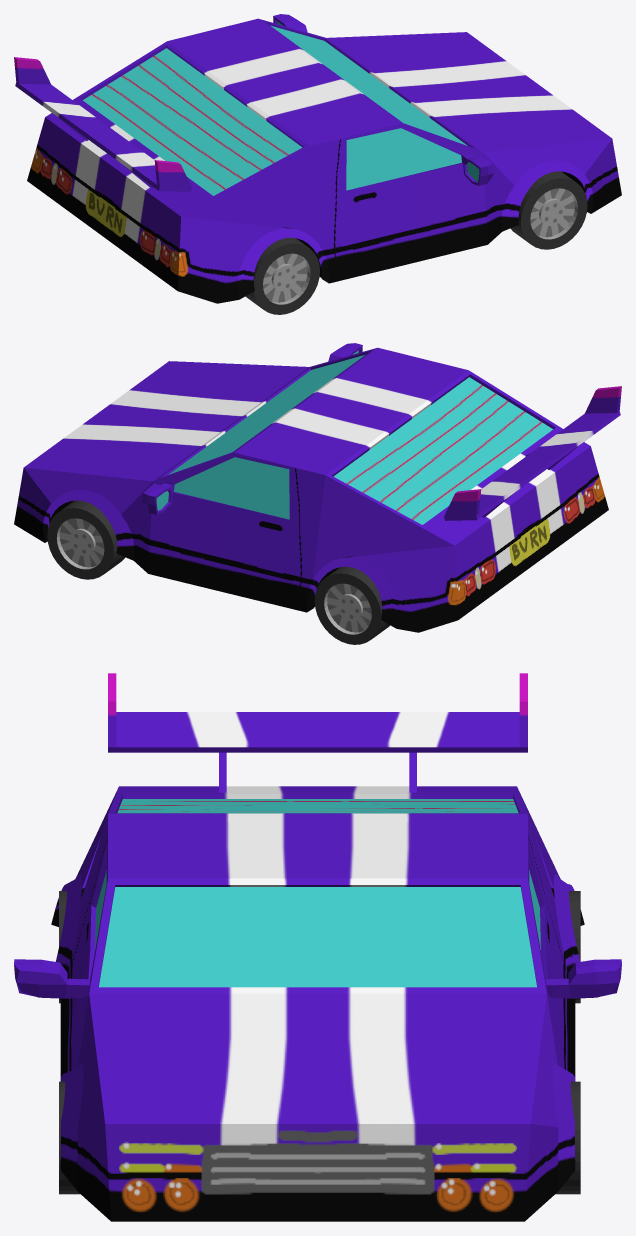
3 renders of one model, top to bottom at view 1: azimuth 30°, elevation 25°; view 2: azimuth 150°, elevation 25°; view 3: azimuth 270°, elevation 25°, orthographic. The views are drawn at different scales.
Visible parts, largest first — view 1: Car, Spoiler, WheelFrontRight, WheelBackRight, MirrorRight; view 2: Car, Spoiler, WheelFrontLeft, WheelBackLeft, MirrorLeft; view 3: Car, Spoiler, MirrorLeft, MirrorRight, WheelFrontLeft.
Part boxes in pixels (x1=…): Car: x1=27, y1=18, x2=621, y2=303; Spoiler: x1=14, y1=57, x2=191, y2=191; WheelFrontRight: x1=510, y1=171, x2=587, y2=249; WheelBackRight: x1=245, y1=237, x2=319, y2=314; MirrorRight: x1=461, y1=154, x2=493, y2=185; Car: x1=14, y1=347, x2=608, y2=632; Spoiler: x1=444, y1=386, x2=621, y2=520; WheelFrontLeft: x1=47, y1=500, x2=124, y2=579; WheelBackLeft: x1=314, y1=566, x2=389, y2=644; MirrorLeft: x1=142, y1=483, x2=174, y2=514; Car: x1=51, y1=786, x2=584, y2=1221; Spoiler: x1=108, y1=673, x2=527, y2=792; MirrorLeft: x1=545, y1=959, x2=621, y2=998; MirrorRight: x1=14, y1=959, x2=90, y2=998; WheelFrontLeft: x1=555, y1=1081, x2=580, y2=1194.
Size of the model in its own units: 6.12 by 2.1 by 4.73.
Materials: 8 (8 with a texture image).
